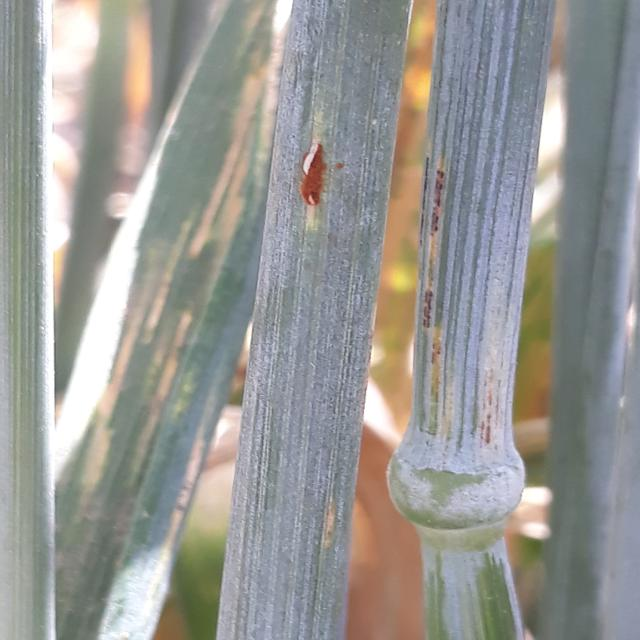black_stem_rust: (222, 8, 412, 640), (380, 25, 560, 640)
